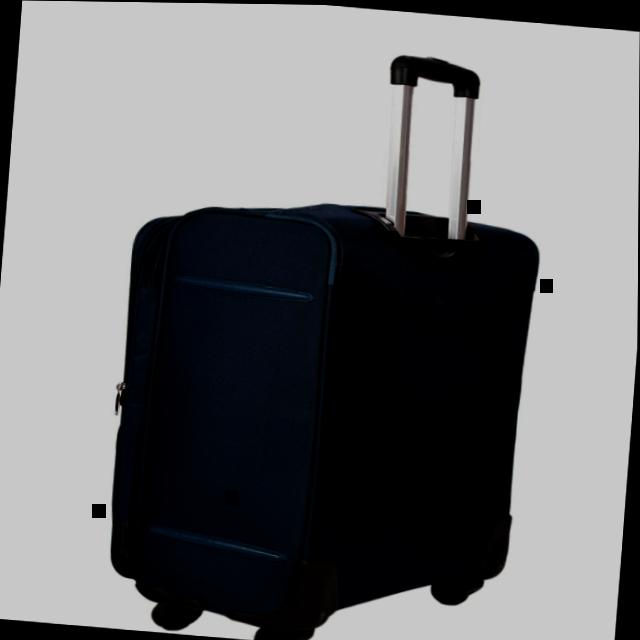luggage: (93, 176, 555, 640)
